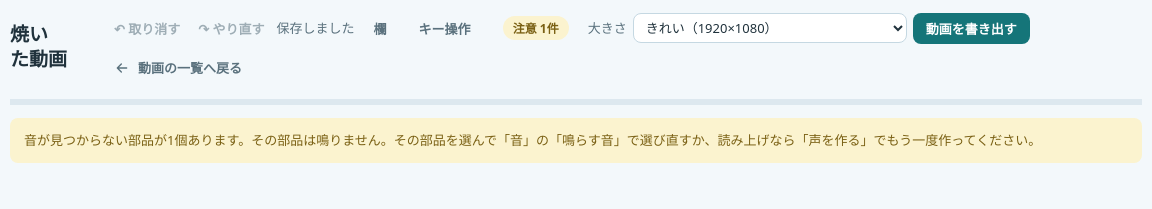
it: TimelineProjectScreen: 欄の配置（ADR-0033 段階2） › 欄のメニューに3つの型が並ぶ
Click the button "欄". click: [380, 28]
box: [361,12,400,44]
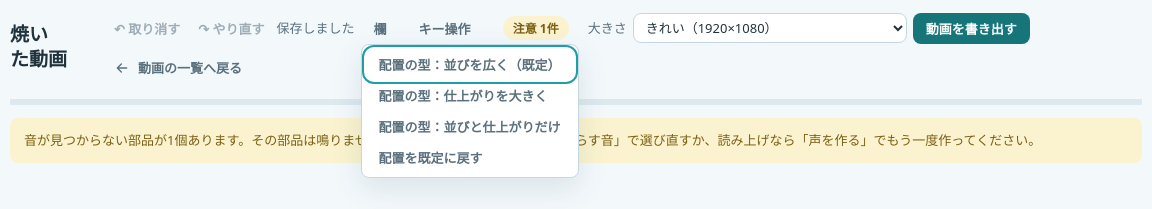
Now the menu item "配置の型：並びと仕上がりだけ" is shown, box [366,110,574,142]
